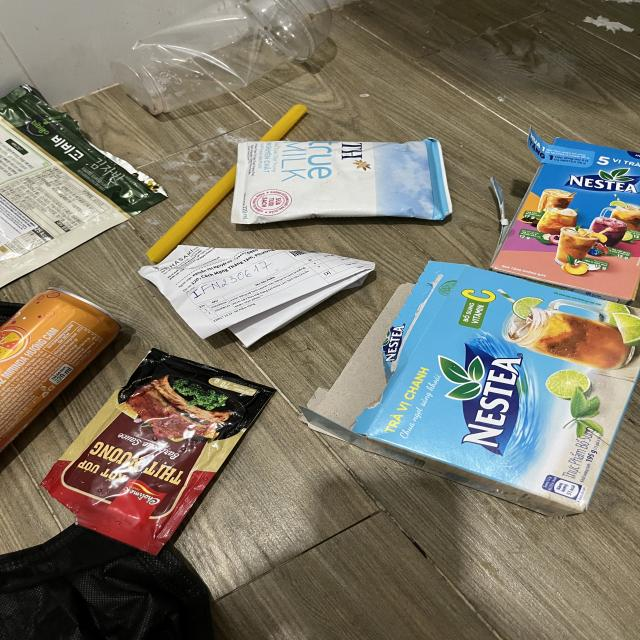can: (0, 288, 121, 454)
cardboard box: (297, 260, 640, 518), (490, 126, 640, 302)
drinking straw: (148, 103, 307, 264)
milk box: (229, 138, 453, 225)
paper: (139, 243, 376, 349)
plastic glass: (113, 0, 331, 115)
snack package: (37, 346, 278, 559), (0, 82, 170, 288)
